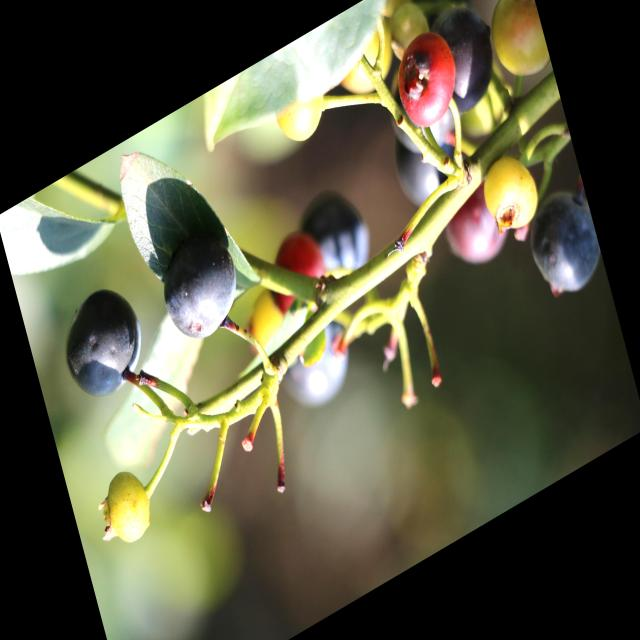blueberry: (149, 207, 254, 359), (50, 268, 155, 418), (285, 166, 383, 316), (518, 173, 608, 317), (264, 305, 361, 433), (425, 0, 510, 126), (385, 109, 469, 228), (379, 57, 460, 172)
blueberry-halfripe: (390, 27, 465, 138), (262, 221, 331, 323)
blueberry-unripe: (332, 10, 405, 109), (480, 0, 552, 96), (477, 143, 544, 244), (95, 456, 160, 557), (271, 76, 332, 156)
